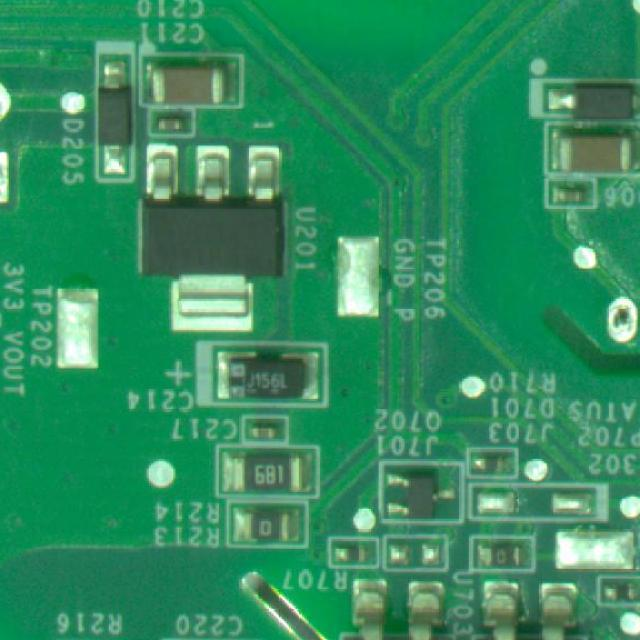Insufficient solder: (589, 284, 640, 350), (0, 142, 26, 217), (0, 64, 22, 139)
